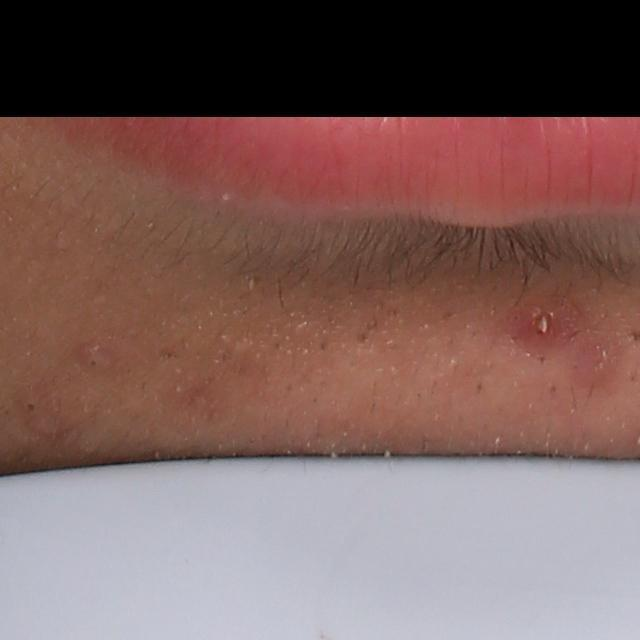comedo: (18, 393, 40, 416), (83, 354, 106, 373)
